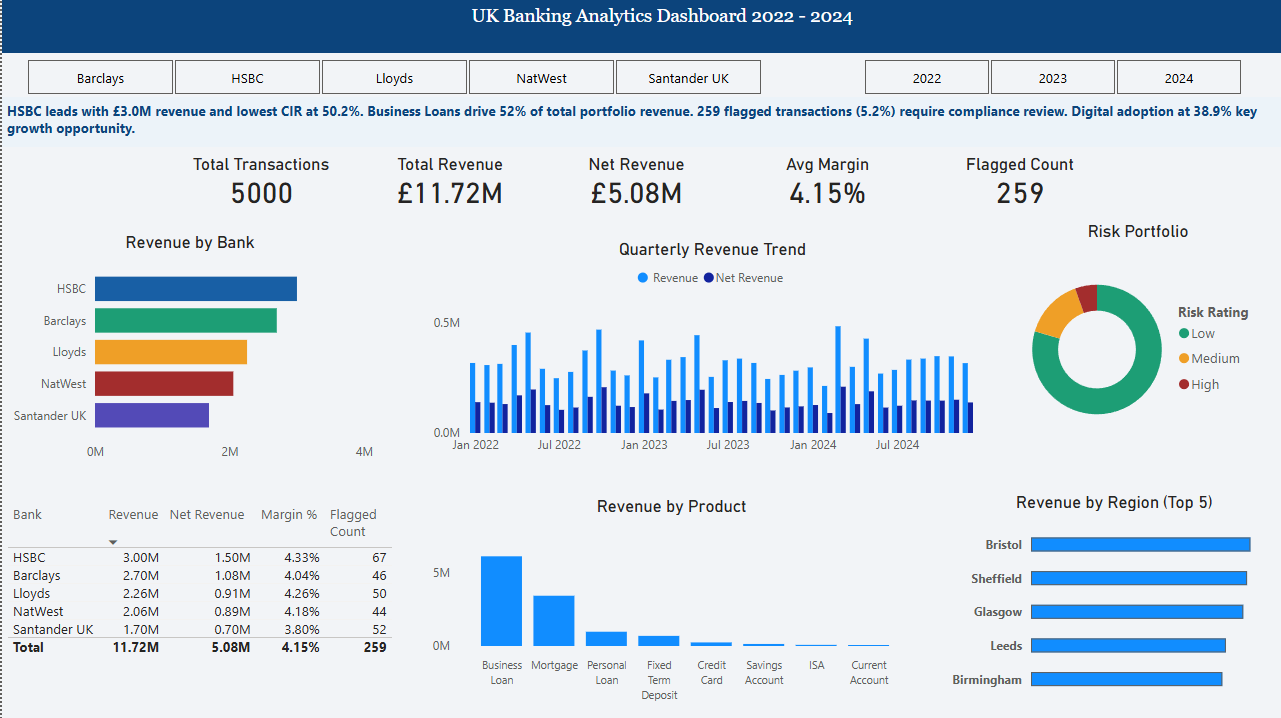

The page's visual inventory and layout, read from the dashboard file:
{"tool":"powerbi","page":{"name":"Page 1","canvas":[1280,720],"ordinal":0},"visuals":[{"type":"slicer","fields":{"Values":["UK_Banking_Transactions_5000.Year"]},"box":[837.4,52.5,426,48.6],"z":0},{"type":"card","title":"Total Transactions","fields":{"Values":["Count(UK_Banking_Transactions_5000.Transaction_ID)"]},"box":[170,154.5,177.8,55],"z":1000},{"type":"card","title":"Total Revenue","fields":{"Values":["Sum(UK_Banking_Transactions_5000.Revenue_GBP)"]},"box":[358.9,154.5,177.8,55],"z":2000},{"type":"card","title":"Net Revenue","fields":{"Values":["Sum(UK_Banking_Transactions_5000.Net_Revenue_GBP)"]},"box":[545.6,154.5,177.8,55],"z":3000},{"type":"card","title":"Avg Margin","fields":{"Values":["Avg(UK_Banking_Transactions_5000.Margin %)"]},"box":[736.7,154.5,177.8,55],"z":4000},{"type":"card","title":"Flagged Count","fields":{"Values":["Sum(UK_Banking_Transactions_5000.Is_Flagged)"]},"box":[928.9,154.5,177.8,55],"z":5000},{"type":"clusteredBarChart","title":"Revenue by Bank","fields":{"Category":["UK_Banking_Product_Summary.Bank"],"Y":["Sum(UK_Banking_Product_Summary.Revenue)"]},"box":[0,232.2,375.6,237.8],"z":6000},{"type":"columnChart","title":" Revenue by Product","fields":{"Category":["UK_Banking_Product_Summary.Product"],"Y":["Sum(UK_Banking_Product_Summary.Revenue)"]},"box":[425,496,489.2,214],"z":7000},{"type":"donutChart","title":"Risk Portfolio ","fields":{"Category":["UK_Banking_Transactions_5000.Risk_Rating"],"Y":["CountNonNull(UK_Banking_Transactions_5000.Transaction_ID)"]},"box":[1008.9,221.1,254.4,237.8],"z":8000},{"type":"clusteredColumnChart","title":"Quarterly Revenue Trend","fields":{"Y":["Sum(UK_Banking_Monthly_Summary.Revenue)","Sum(UK_Banking_Monthly_Summary.Net_Revenue)"],"Category":["UK_Banking_Monthly_Summary.Month_Year"]},"box":[426,239.3,569,223.7],"z":9000},{"type":"barChart","title":"Revenue by Region (Top 5)","fields":{"Category":["UK_Banking_Transactions_5000.Region"],"Y":["Sum(UK_Banking_Transactions_5000.Revenue_GBP)"]},"box":[944.4,492.2,335.6,214],"z":10000},{"type":"tableEx","fields":{"Values":["UK_Banking_Transactions_5000.Bank","Sum(UK_Banking_Transactions_5000.Revenue_GBP)","Sum(UK_Banking_Transactions_5000.Net_Revenue_GBP)","Avg(UK_Banking_Transactions_5000.Margin %)","Sum(UK_Banking_Transactions_5000.Is_Flagged)"]},"box":[0,499.9,405.6,206.2],"z":11000},{"type":"textbox","box":[0,0,1280,52.5],"z":12000},{"type":"slicer","fields":{"Values":["UK_Banking_Transactions_5000.Bank"]},"box":[0,52.5,783,48.6],"z":13000},{"type":"textbox","box":[0,97.3,1280,49.6],"z":14000}]}

Visuals, with their boxes in screenshot pixels (x1, y1, x2, y2), scaled from the page's 1280x720 canvas onto the 1281x718 screenshot:
slicer - UK_Banking_Transactions_5000.Year: Rect(838, 52, 1264, 101)
"Total Transactions" card: Rect(170, 154, 348, 209)
"Total Revenue" card: Rect(359, 154, 537, 209)
"Net Revenue" card: Rect(546, 154, 724, 209)
"Avg Margin" card: Rect(737, 154, 915, 209)
"Flagged Count" card: Rect(930, 154, 1108, 209)
"Revenue by Bank" clusteredBarChart: Rect(0, 232, 376, 469)
" Revenue by Product" columnChart: Rect(425, 495, 915, 708)
"Risk Portfolio " donutChart: Rect(1010, 220, 1264, 458)
"Quarterly Revenue Trend" clusteredColumnChart: Rect(426, 239, 996, 462)
"Revenue by Region (Top 5)" barChart: Rect(945, 491, 1280, 704)
tableEx - UK_Banking_Transactions_5000.Bank x Sum(UK_Banking_Transactions_5000.Revenue_GBP): Rect(0, 499, 406, 704)
textbox: Rect(0, 0, 1280, 52)
slicer - UK_Banking_Transactions_5000.Bank: Rect(0, 52, 784, 101)
textbox: Rect(0, 97, 1280, 146)
